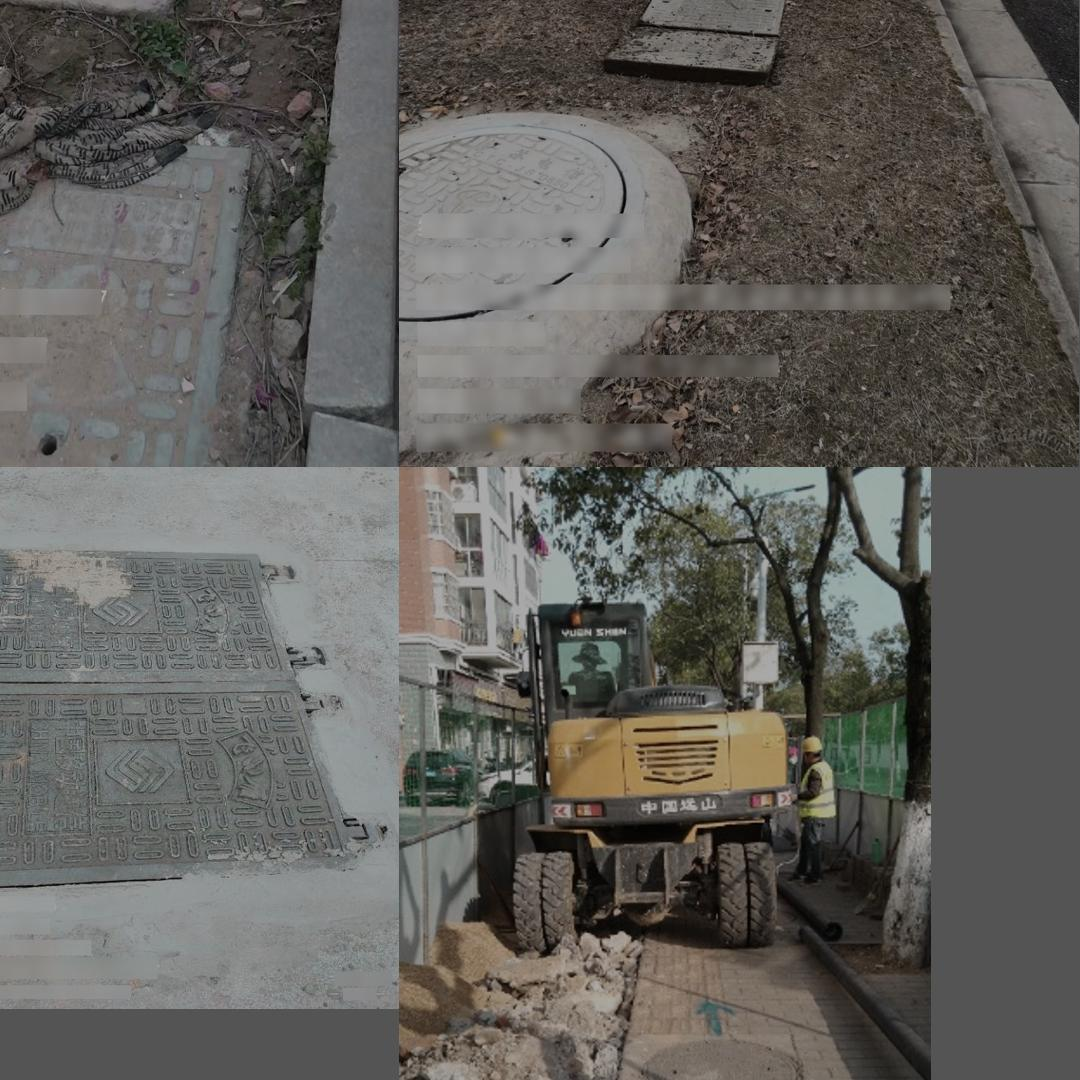good: (0, 546, 369, 892), (0, 138, 254, 467), (399, 123, 637, 326), (646, 1036, 807, 1080)
uncovered: (604, 0, 788, 81)
